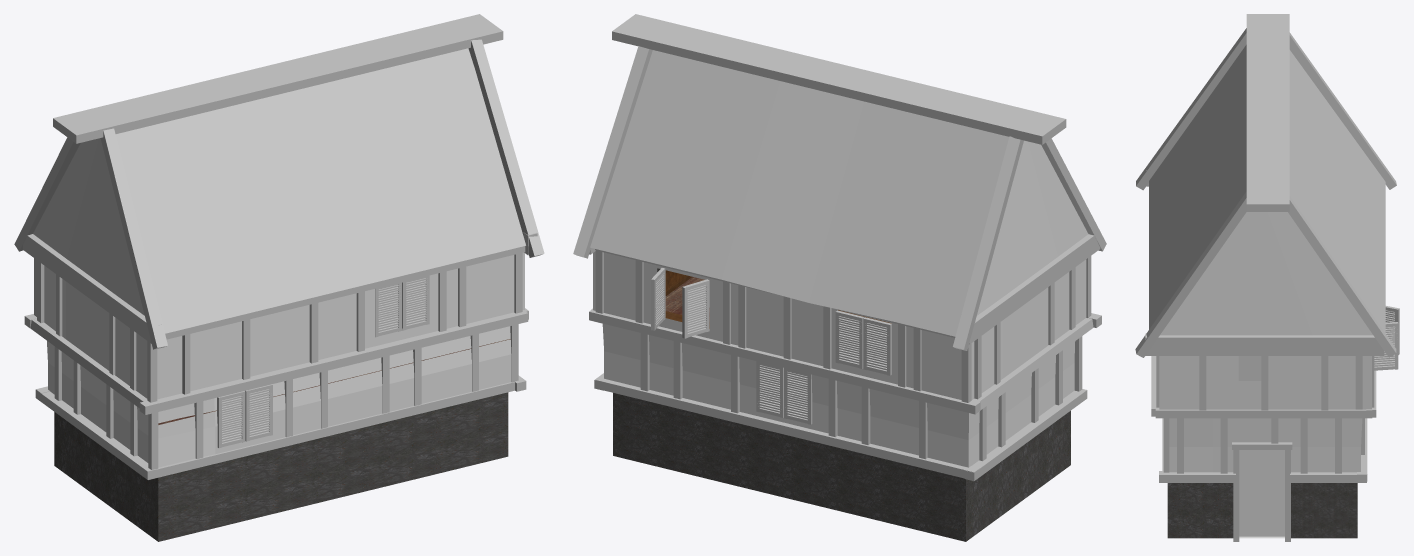
The model's file is house_1_int.fbx.
3 views of the same model, side by side, from view 1: azimuth 30°, elevation 25°; view 2: azimuth 150°, elevation 25°; view 3: azimuth 270°, elevation 25° (orthographic). The views are drawn at different scales.
Parts seen in each view (by area): view 1: Cube, Cube.014, Cube.005, Cube.011, Cube.073, Cube.074, Cube.004, Cube.008, Cube.016, Cube.003, Cube.072, Cube.023 (+4 smaller); view 2: Cube, Cube.014, Cube.010, Cube.006, Cube.072, Cube.071, Cube.004, Cube.016, Cube.003, Cube.015, Cube.079, Cube.080 (+4 smaller); view 3: Cube, Cube.014, Cube.009, Cube.074, Cube.001, Cube.071, Cube.073, Cube.072, Cube.069, Cube.068, Cube.041, Cube.013 (+12 smaller).
Part boxes in pixels (left/top/right/bottom): Cube: left=33, top=48, right=525, bottom=541; Cube.014: left=53, top=14, right=503, bottom=143; Cube.005: left=139, top=310, right=528, bottom=414; Cube.011: left=148, top=382, right=514, bottom=479; Cube.073: left=100, top=128, right=167, bottom=349; Cube.074: left=468, top=39, right=544, bottom=257; Cube.004: left=23, top=234, right=161, bottom=343; Cube.008: left=165, top=246, right=525, bottom=339; Cube.016: left=35, top=389, right=156, bottom=479; Cube.003: left=30, top=318, right=147, bottom=407; Cube.072: left=14, top=137, right=80, bottom=251; Cube.023: left=217, top=391, right=245, bottom=448; Cube: left=590, top=50, right=1088, bottom=541; Cube.014: left=612, top=14, right=1066, bottom=144; Cube.010: left=596, top=376, right=979, bottom=478; Cube.006: left=589, top=309, right=980, bottom=414; Cube.072: left=953, top=136, right=1023, bottom=350; Cube.071: left=573, top=46, right=652, bottom=258; Cube.004: left=969, top=234, right=1100, bottom=344; Cube.016: left=964, top=389, right=1087, bottom=481; Cube.003: left=972, top=318, right=1093, bottom=409; Cube.015: left=863, top=317, right=891, bottom=375; Cube.079: left=835, top=310, right=864, bottom=368; Cube.080: left=682, top=279, right=709, bottom=338; Cube: left=1149, top=44, right=1385, bottom=538; Cube.014: left=1246, top=14, right=1289, bottom=211; Cube.009: left=1145, top=333, right=1384, bottom=355; Cube.074: left=1135, top=191, right=1246, bottom=357; Cube.001: left=1155, top=409, right=1372, bottom=418; Cube.071: left=1288, top=196, right=1396, bottom=357; Cube.073: left=1136, top=28, right=1246, bottom=190; Cube.072: left=1289, top=32, right=1396, bottom=189; Cube.069: left=1159, top=471, right=1235, bottom=482; Cube.068: left=1290, top=472, right=1366, bottom=482; Cube.041: left=1374, top=322, right=1398, bottom=370; Cube.013: left=1233, top=450, right=1239, bottom=541.
Size of the model in its own units: 2074 by 1784 by 1216.
